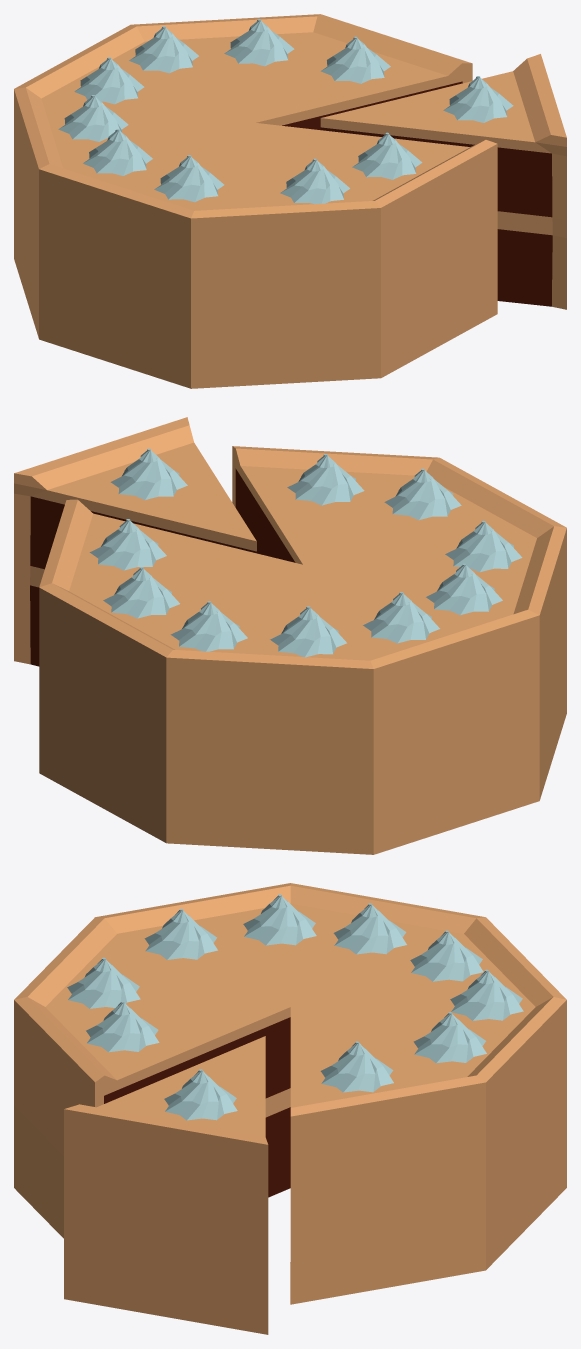
File: Cake_Manis-Asin_Salted-Caramel-Brownies.fbx
3 renders of one model, top to bottom at view 1: azimuth 30°, elevation 25°; view 2: azimuth 150°, elevation 25°; view 3: azimuth 270°, elevation 25°, orthographic. The views are drawn at different scales.
Parts seen in each view (by area): view 1: Cylinder, Cylinder.001, Cylinder.007, Cylinder.003, Cylinder.004, Cylinder.009, Cylinder.010, Cylinder.006, Cylinder.008, Cylinder.005, Cylinder.011, Cylinder.002; view 2: Cylinder, Cylinder.001, Cylinder.003, Cylinder.007, Cylinder.010, Cylinder.005, Cylinder.011, Cylinder.006, Cylinder.002, Cylinder.009, Cylinder.008, Cylinder.004; view 3: Cylinder, Cylinder.001, Cylinder.010, Cylinder.008, Cylinder.009, Cylinder.002, Cylinder.007, Cylinder.004, Cylinder.011, Cylinder.003, Cylinder.006, Cylinder.005.
Part boxes in pixels (box(x1,y1,x2,y2)): Cylinder: box(14, 14, 497, 388); Cylinder.001: box(320, 54, 566, 309); Cylinder.007: box(443, 76, 513, 122); Cylinder.003: box(83, 129, 152, 175); Cylinder.004: box(154, 155, 224, 202); Cylinder.009: box(224, 19, 294, 66); Cylinder.010: box(129, 26, 198, 73); Cylinder.006: box(352, 132, 422, 179); Cylinder.008: box(320, 36, 390, 83); Cylinder.005: box(280, 158, 349, 204); Cylinder.011: box(74, 57, 144, 104); Cylinder.002: box(58, 95, 128, 141); Cylinder: box(39, 446, 566, 854); Cylinder.001: box(14, 417, 256, 666); Cylinder.003: box(426, 563, 502, 615); Cylinder.007: box(110, 448, 187, 499); Cylinder.010: box(170, 601, 247, 651); Cylinder.005: box(384, 468, 461, 520); Cylinder.011: box(270, 606, 346, 657); Cylinder.006: box(287, 454, 364, 505); Cylinder.002: box(363, 592, 439, 643); Cylinder.009: box(103, 567, 179, 618); Cylinder.008: box(89, 519, 166, 570); Cylinder.004: box(445, 520, 522, 572); Cylinder: box(14, 883, 566, 1304); Cylinder.001: box(64, 1036, 268, 1334); Cylinder.010: box(450, 969, 523, 1020); Cylinder.008: box(320, 1041, 393, 1092); Cylinder.009: box(413, 1012, 486, 1063); Cylinder.002: box(333, 903, 406, 954); Cylinder.007: box(164, 1069, 237, 1120); Cylinder.004: box(144, 908, 217, 959); Cylinder.011: box(410, 930, 483, 981); Cylinder.003: box(243, 894, 316, 945); Cylinder.006: box(86, 1001, 159, 1052); Cylinder.005: box(67, 957, 140, 1008).
Bounding box in the file's own units: 372 × 141 × 328.
